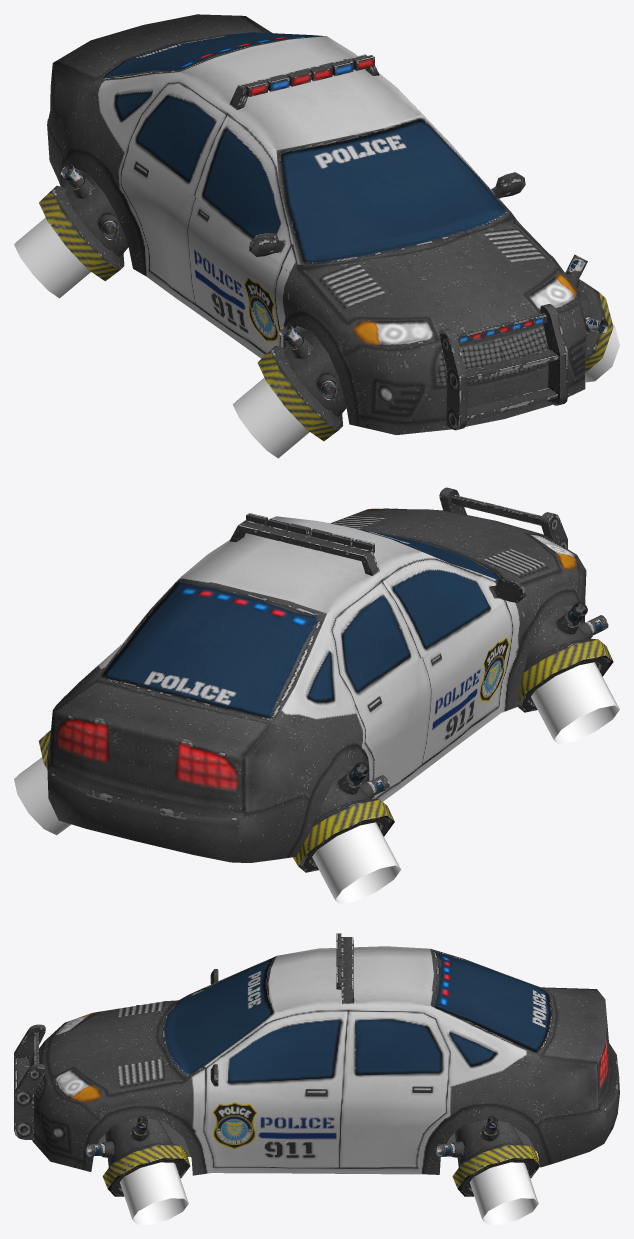
Rendered from VHC0310009.FBX.
The picture shows the model from 3 angles, top to bottom: view 1: azimuth 30°, elevation 25°; view 2: azimuth 150°, elevation 25°; view 3: azimuth 270°, elevation 25°; orthographic projection. The views are drawn at different scales.
Visible parts, largest first — view 1: smVHC0310009; view 2: smVHC0310009; view 3: smVHC0310009.
Boxes of the visible parts, x1,y1,x2,y2 form: smVHC0310009: (14, 14, 619, 458); smVHC0310009: (14, 487, 619, 904); smVHC0310009: (14, 933, 619, 1224).
Size of the model in its own units: 2.08 by 1.38 by 3.62.
Materials: 2 (2 with a texture image).
